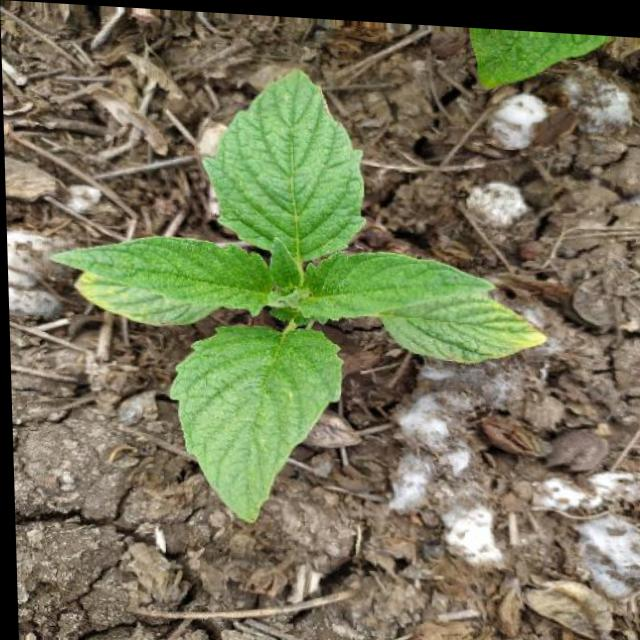crop: (50, 52, 566, 545)
